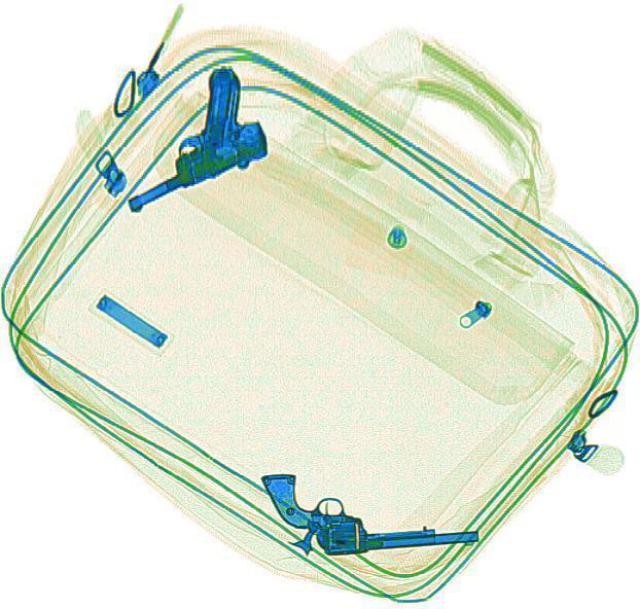Gun: (81, 62, 279, 213), (259, 456, 477, 558)
